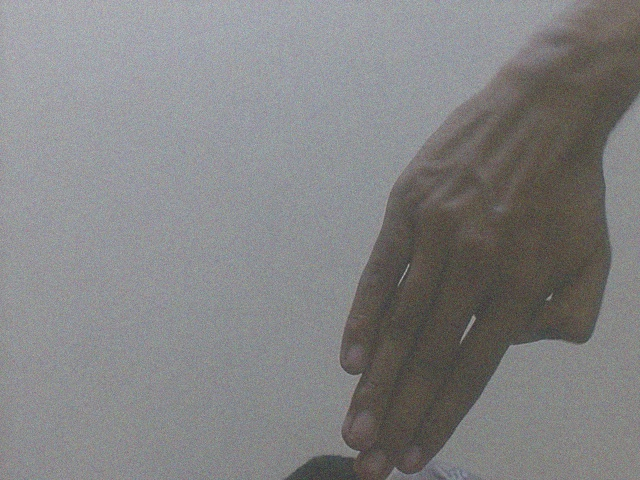hand: (334, 64, 618, 479)
